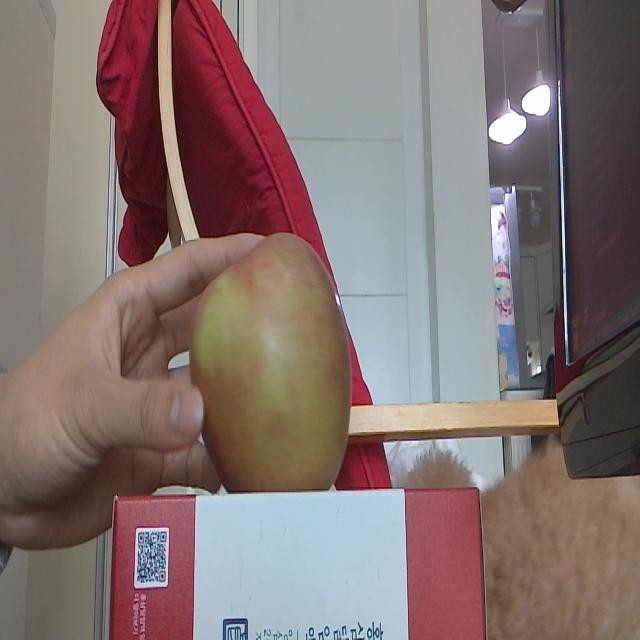apple: (187, 233, 353, 491)
